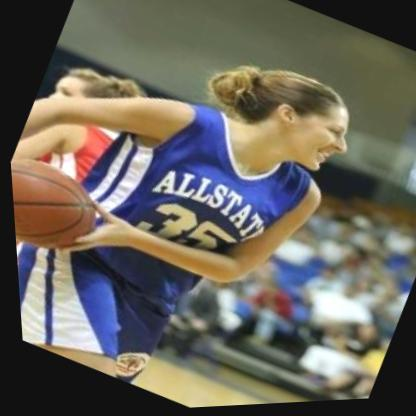basketball: (8, 143, 114, 274)
